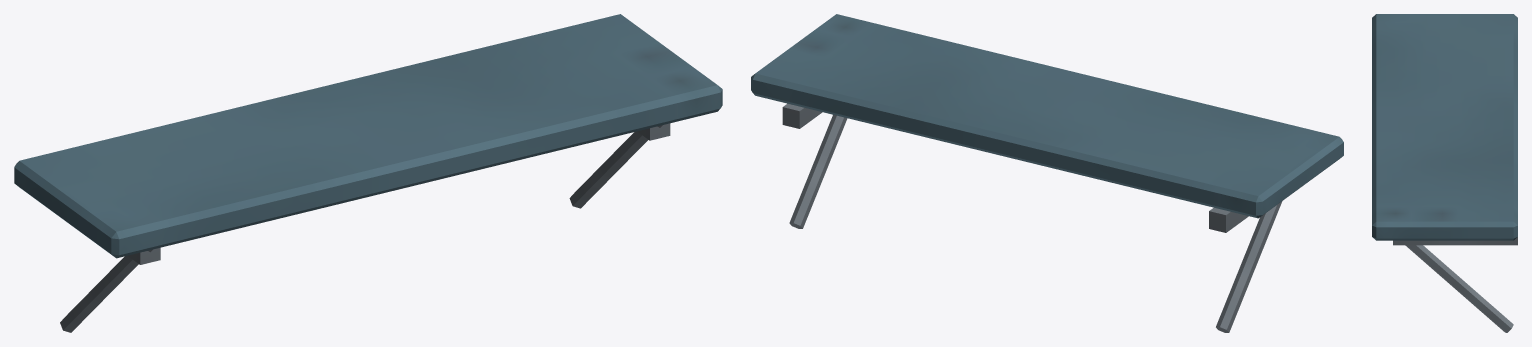
Rendered from shower_bench.fbx.
The picture shows the model from 3 angles, left to right: view 1: azimuth 30°, elevation 25°; view 2: azimuth 150°, elevation 25°; view 3: azimuth 270°, elevation 25°; orthographic projection. The views are drawn at different scales.
Visible parts, largest first — view 1: shower_bench; view 2: shower_bench; view 3: shower_bench.
Part boxes in pixels (x1,y1,x2,y2): shower_bench: [14, 14, 722, 332]; shower_bench: [751, 14, 1343, 332]; shower_bench: [1372, 14, 1517, 332].
Size of the model in its own units: 1.2 by 0.3358 by 0.35.
Materials: 1 (1 with a texture image).
